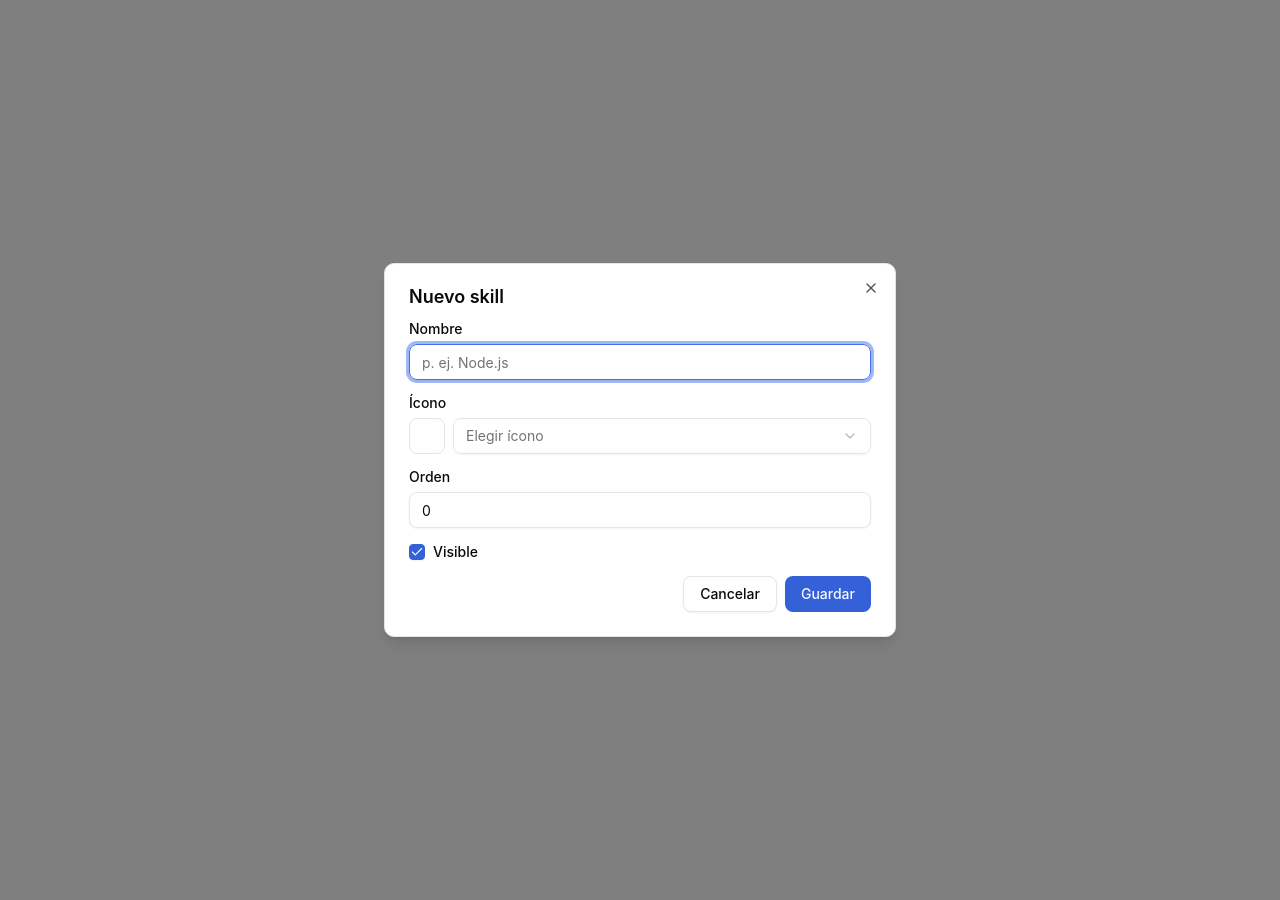
Test: SkillFormDialog (nuevo) › autocompleta el nombre a partir del ícono elegido si el campo está vacío
What coordinates should you click on to do the following:
click the dropdown labelled "Elegir ícono"
I would click on:
 (505, 436)
Its box is [453,418,871,454].
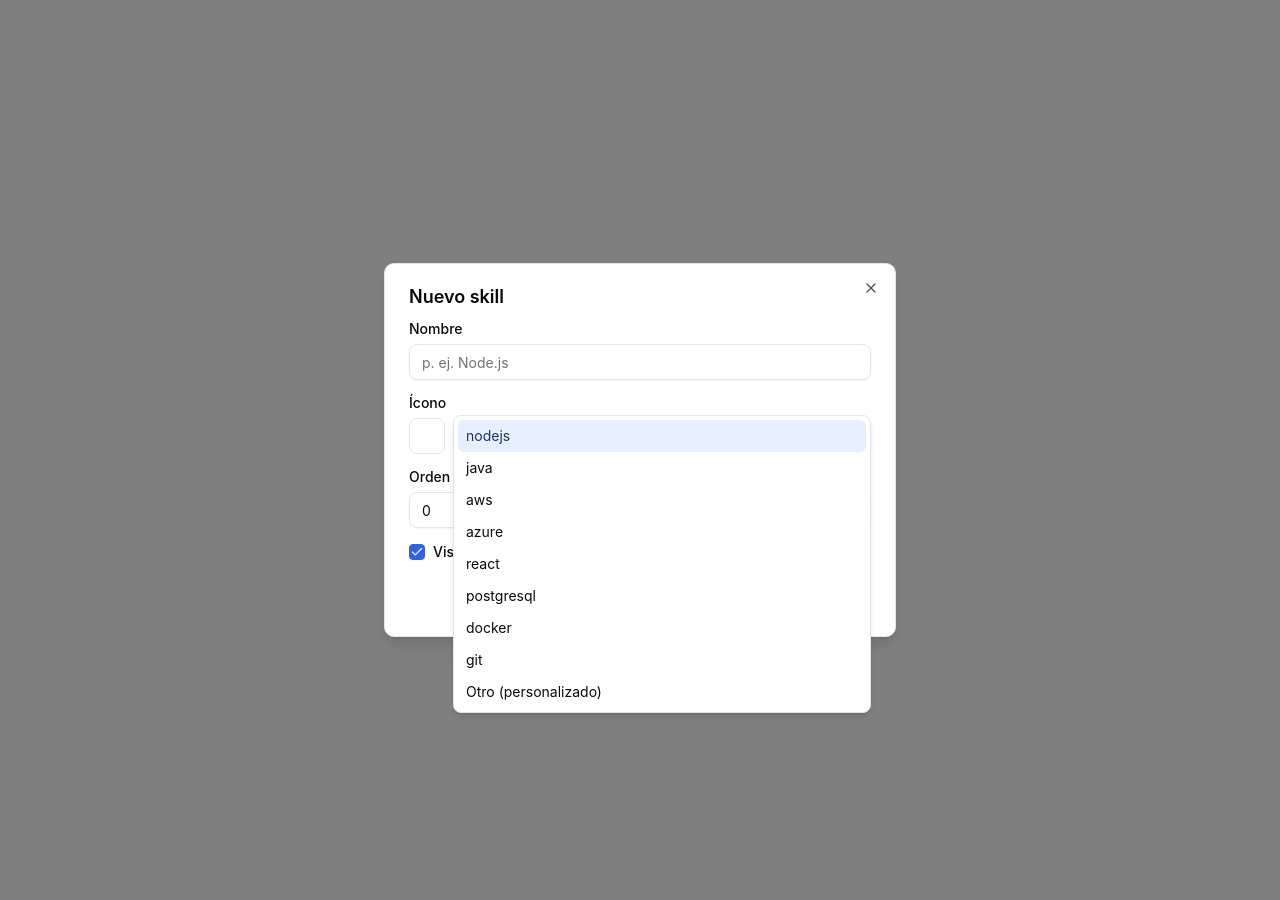
What coordinates should you click on to do the following:
click the option "nodejs"
I would click on:
 (488, 436)
Its box is [458,420,866,452].
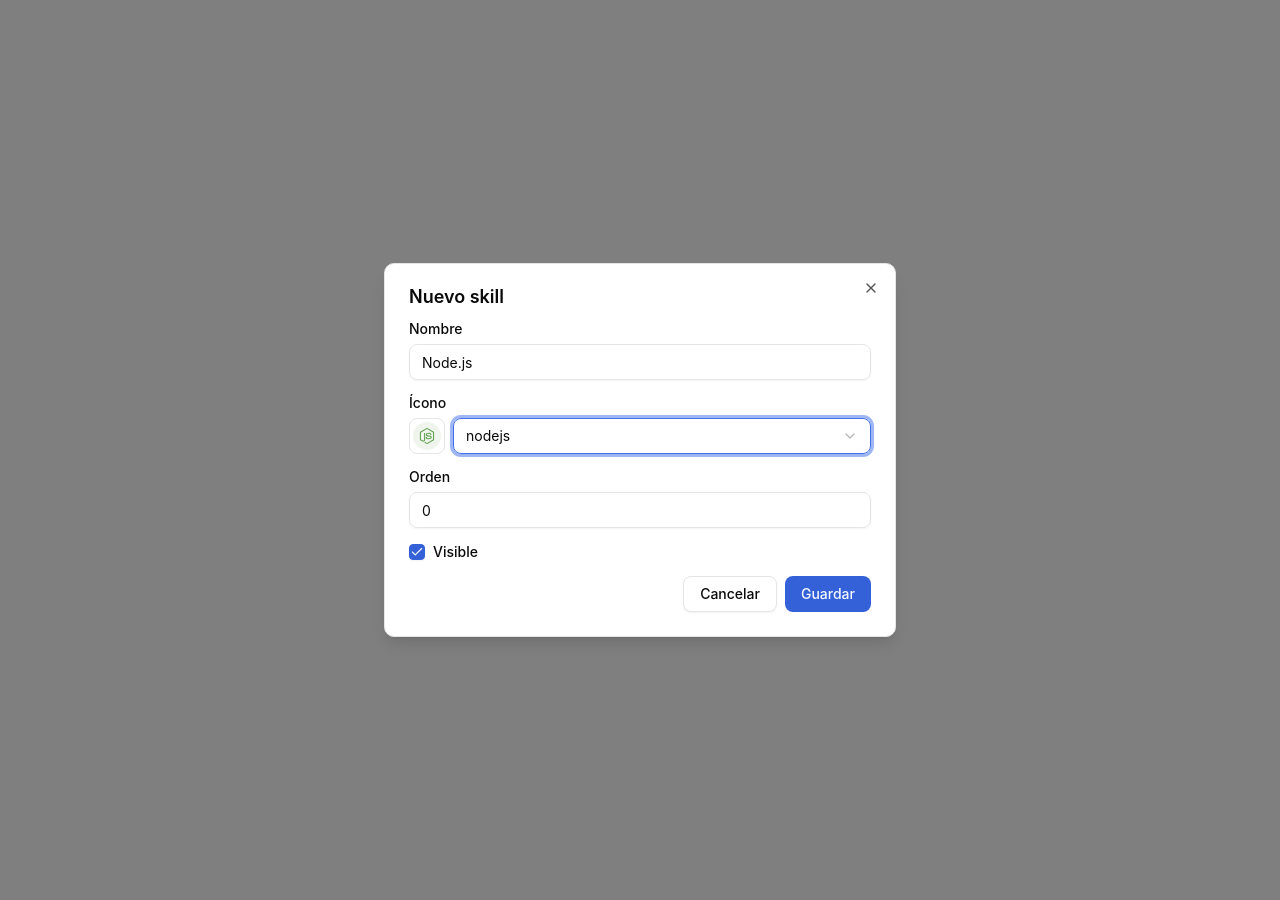
Check: the field labelled "Nombre" holds "Node.js", box [409,344,871,380]
